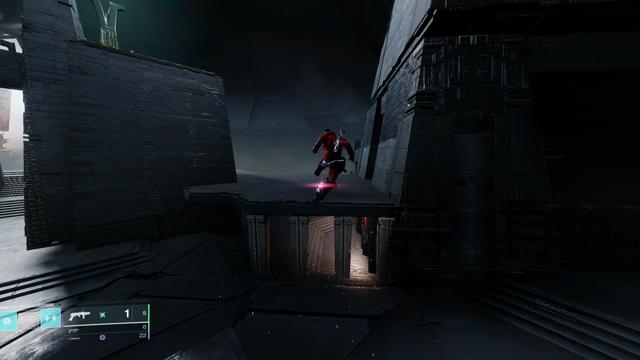kill: (363, 216, 369, 232)
